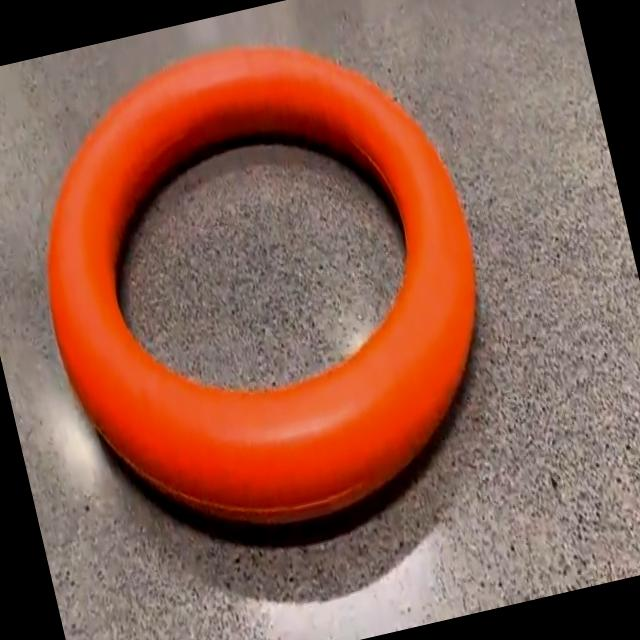note: (47, 47, 475, 523)
